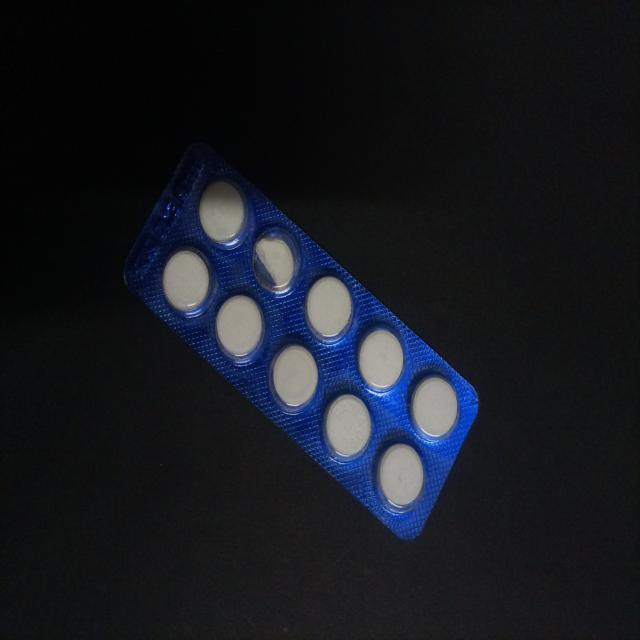defect: (250, 223, 303, 300)
